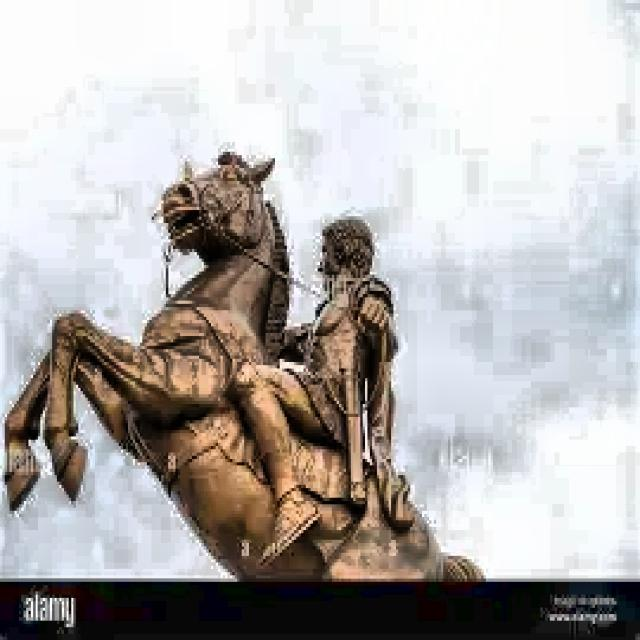alexander the great monument: (0, 151, 485, 580)
